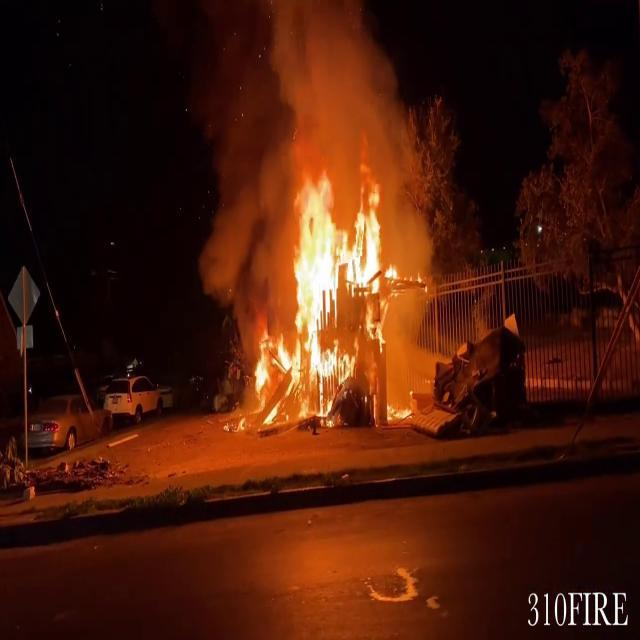Fire: (248, 146, 402, 427)
Smoke: (208, 0, 430, 227)
